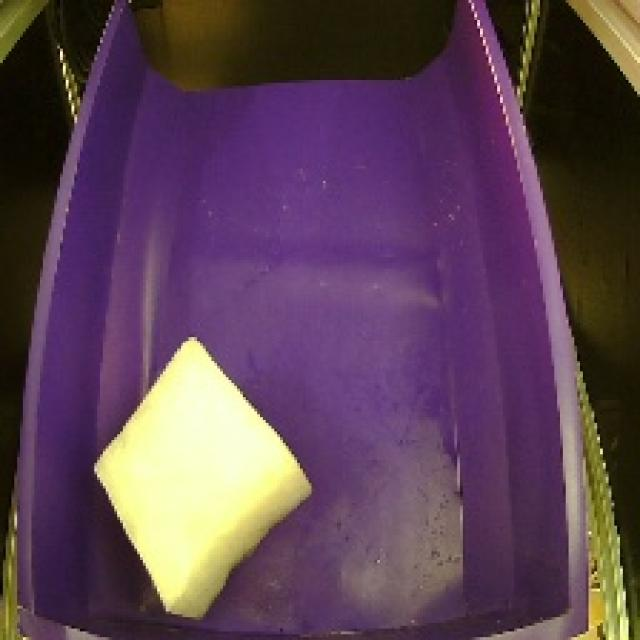white_radish: (83, 326, 324, 618)
